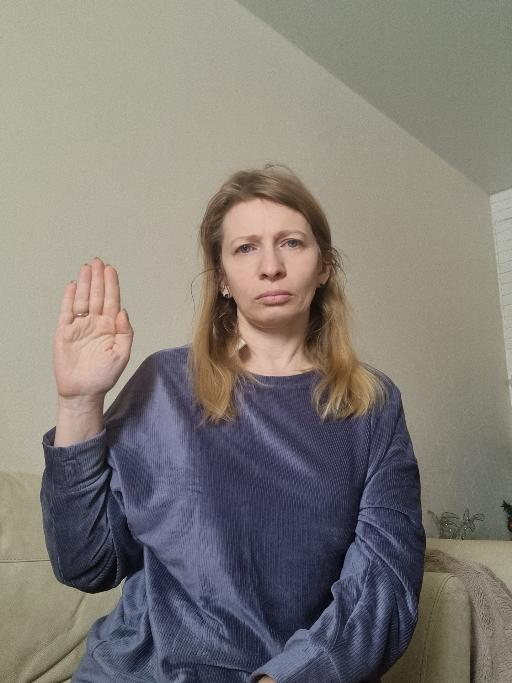stop: (49, 251, 136, 403)
